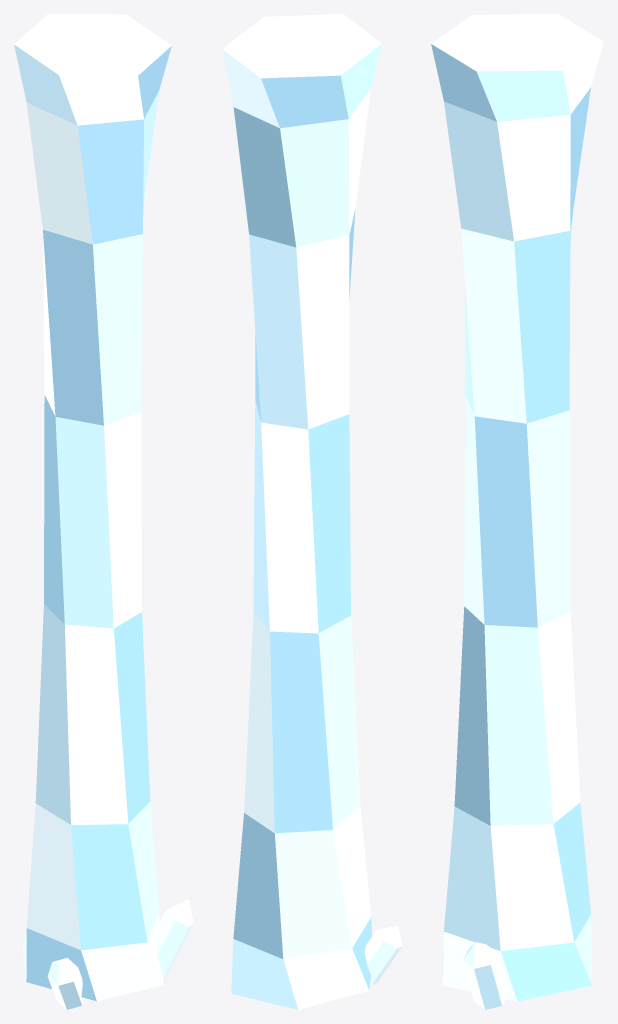
The model's file is ice-pillar.glb.
3 views of the same model, side by side, from view 1: azimuth 30°, elevation 25°; view 2: azimuth 150°, elevation 25°; view 3: azimuth 270°, elevation 25° (orthographic).
Parts seen in each view (by area): view 1: ice-pillar; view 2: ice-pillar; view 3: ice-pillar.
Part boxes in pixels (x1=…): ice-pillar: x1=14, y1=14, x2=193, y2=1009; ice-pillar: x1=222, y1=14, x2=402, y2=1009; ice-pillar: x1=431, y1=14, x2=603, y2=1009.
Bounding box in the file's own units: 3 × 18 × 3.
